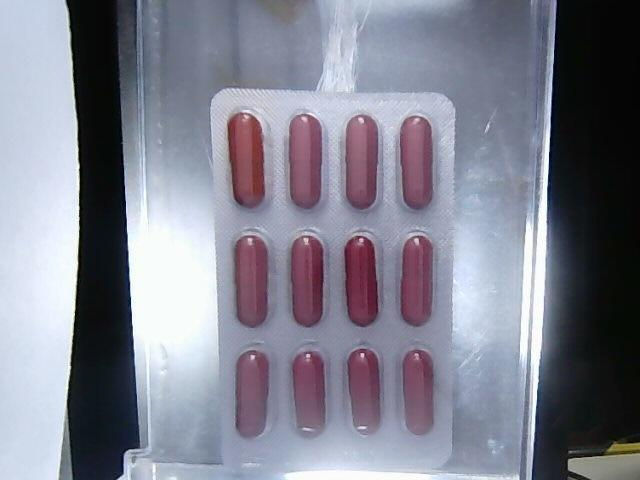Light Front: (208, 89, 458, 474)
Pill Front: (223, 107, 273, 208), (396, 229, 441, 330), (283, 109, 328, 205), (284, 235, 330, 326), (342, 344, 387, 437), (234, 233, 277, 328), (345, 113, 385, 214), (342, 231, 383, 329), (289, 348, 332, 440), (232, 347, 274, 439), (399, 348, 441, 439), (399, 112, 436, 208)
